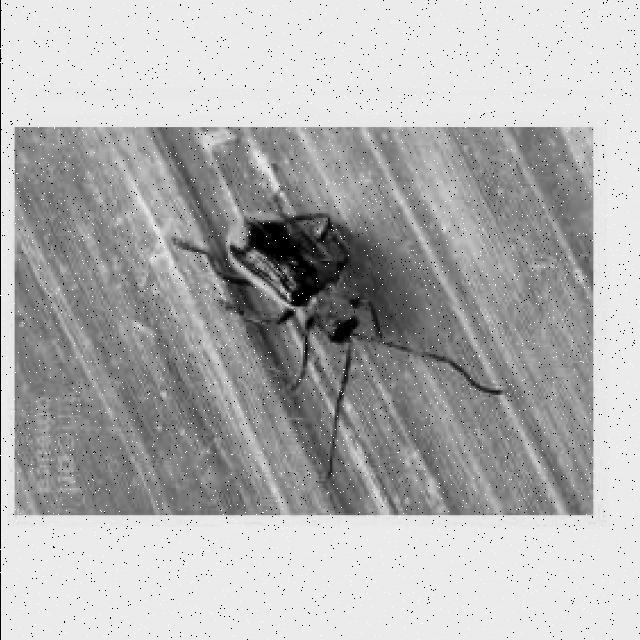trips: (170, 187, 506, 478)
